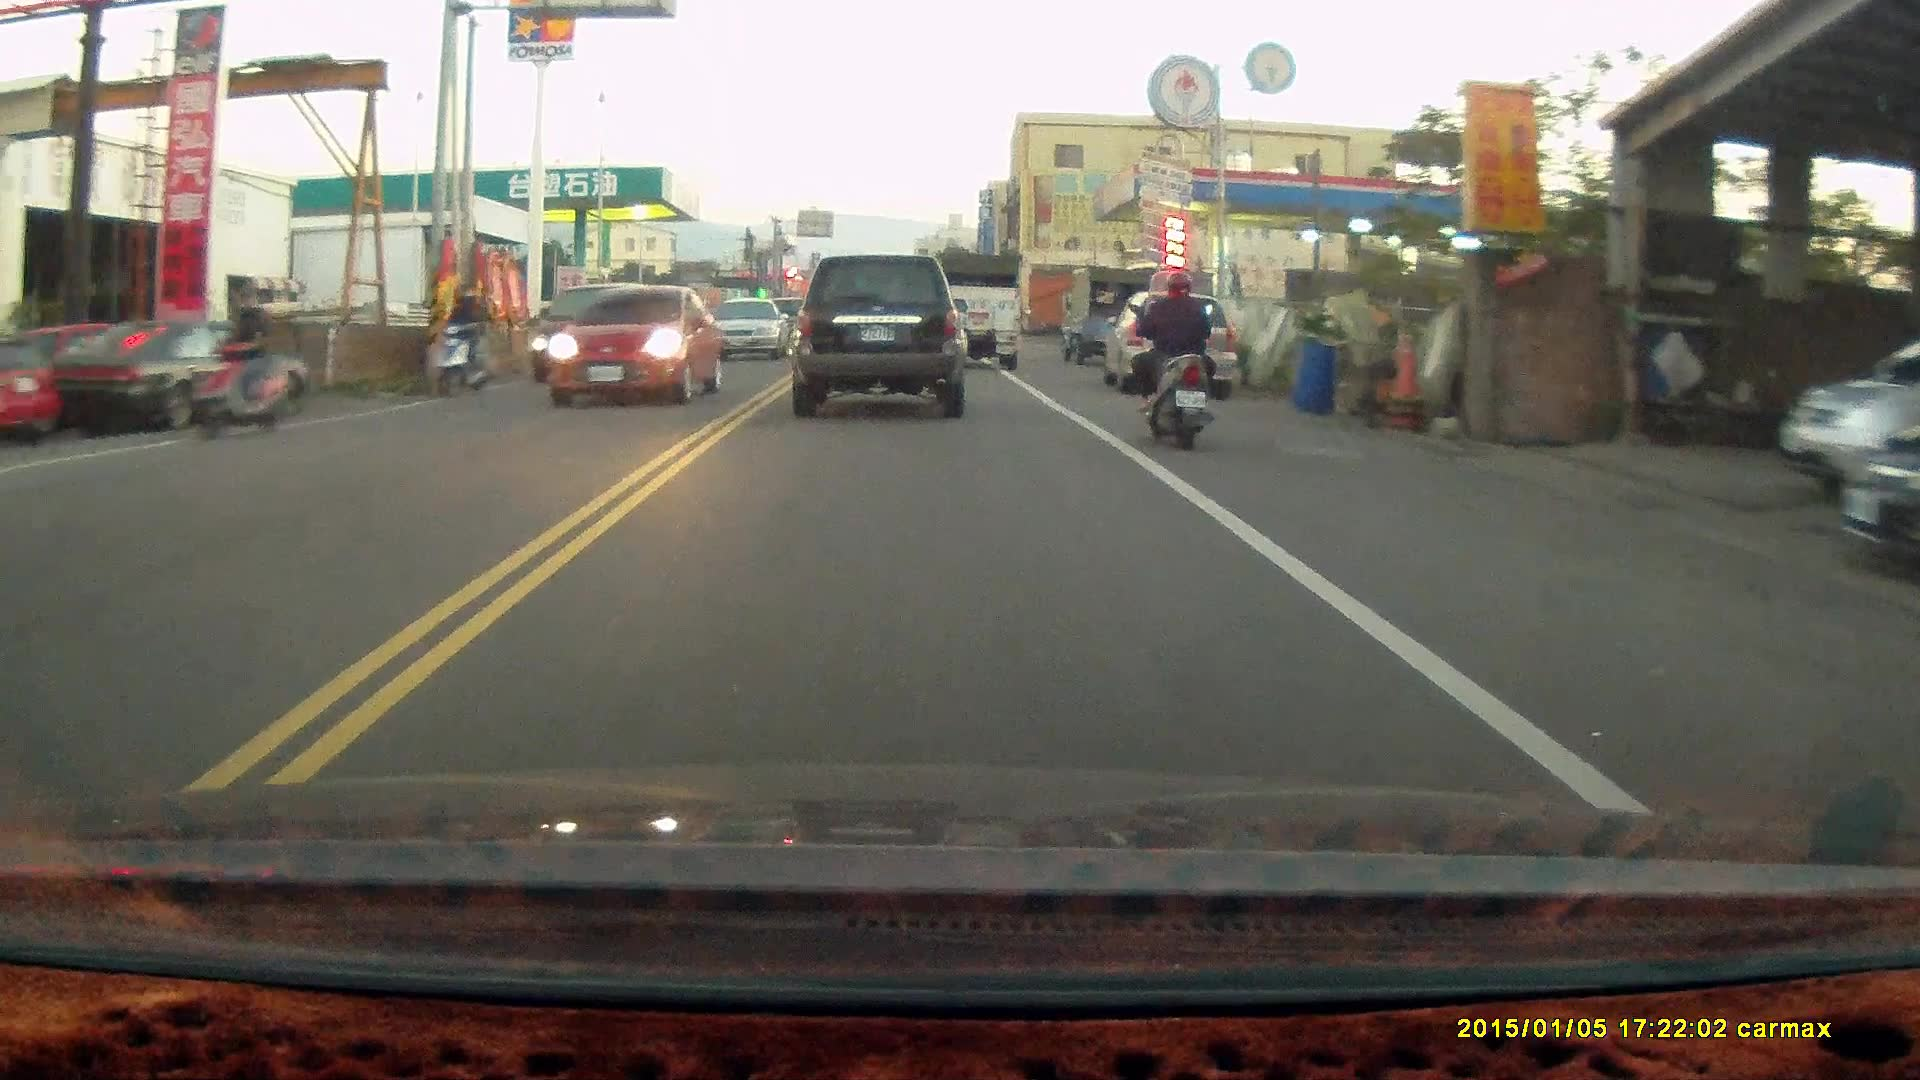rider: (1127, 266, 1222, 448), (184, 286, 293, 440), (419, 291, 486, 402)
vehicle: (34, 322, 301, 439), (789, 253, 969, 420), (547, 285, 724, 409), (1101, 290, 1242, 395), (531, 284, 662, 387), (930, 251, 1021, 371), (700, 298, 792, 360)
